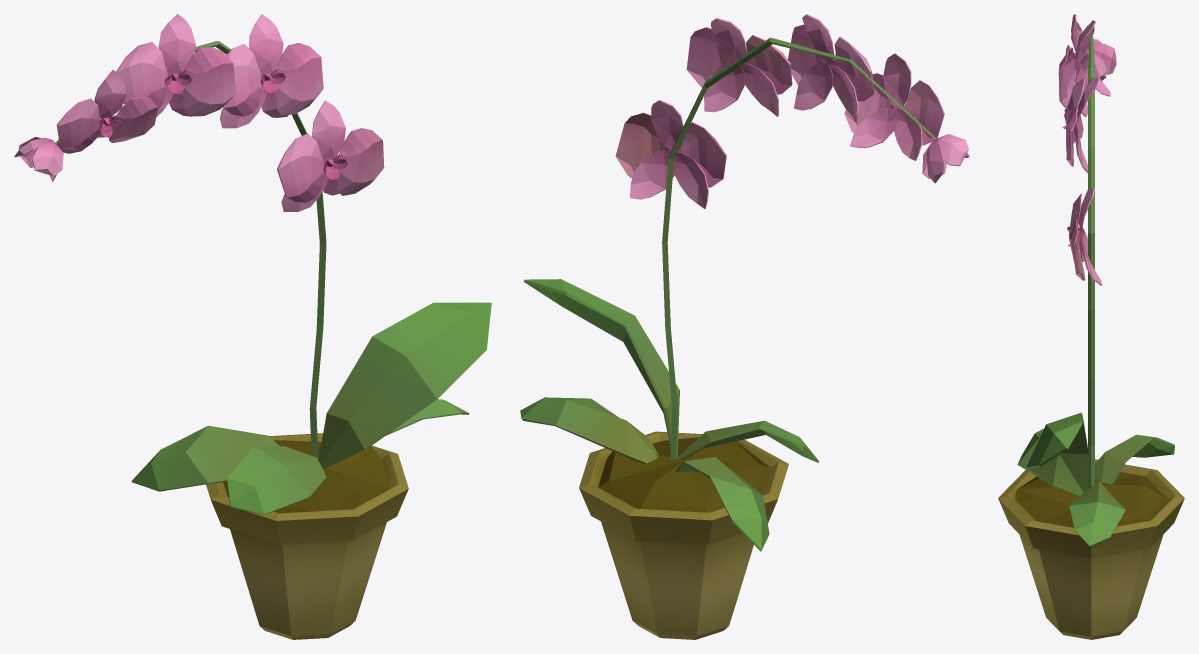
Rendered from orchid-CLTvekk5.glb.
3 renders of one model, left to right at view 1: azimuth 30°, elevation 25°; view 2: azimuth 150°, elevation 25°; view 3: azimuth 270°, elevation 25°, orthographic. The views are drawn at different scales.
Parts seen in each view (by area): view 1: Orchid_mesh; view 2: Orchid_mesh; view 3: Orchid_mesh.
Boxes of the visible parts, <box> form: Orchid_mesh: <box>14,14,491,639</box>; Orchid_mesh: <box>520,14,969,639</box>; Orchid_mesh: <box>998,14,1184,639</box>.
Bounding box in the file's own units: 13.75 × 18.33 × 5.65.
1 material, 1 textured.
